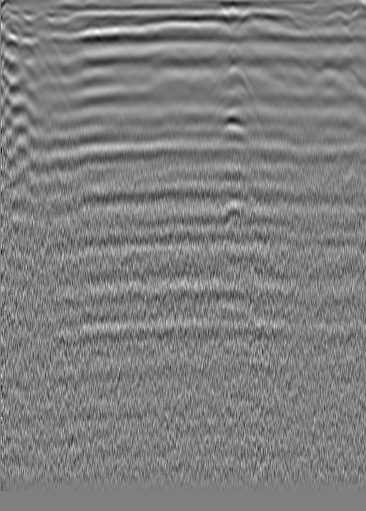가스: (215, 113, 253, 150)
상수: (303, 13, 323, 33)
오수: (32, 12, 52, 32)
우수: (163, 18, 183, 38)
